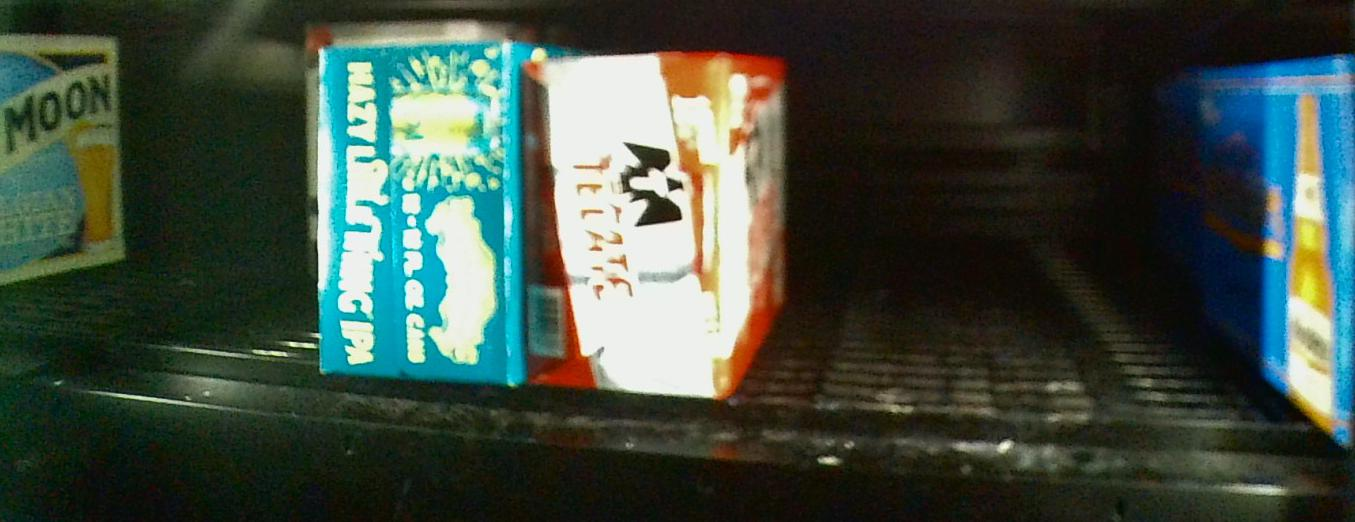bottle: (526, 52, 795, 391), (321, 39, 523, 386), (304, 22, 319, 285)
